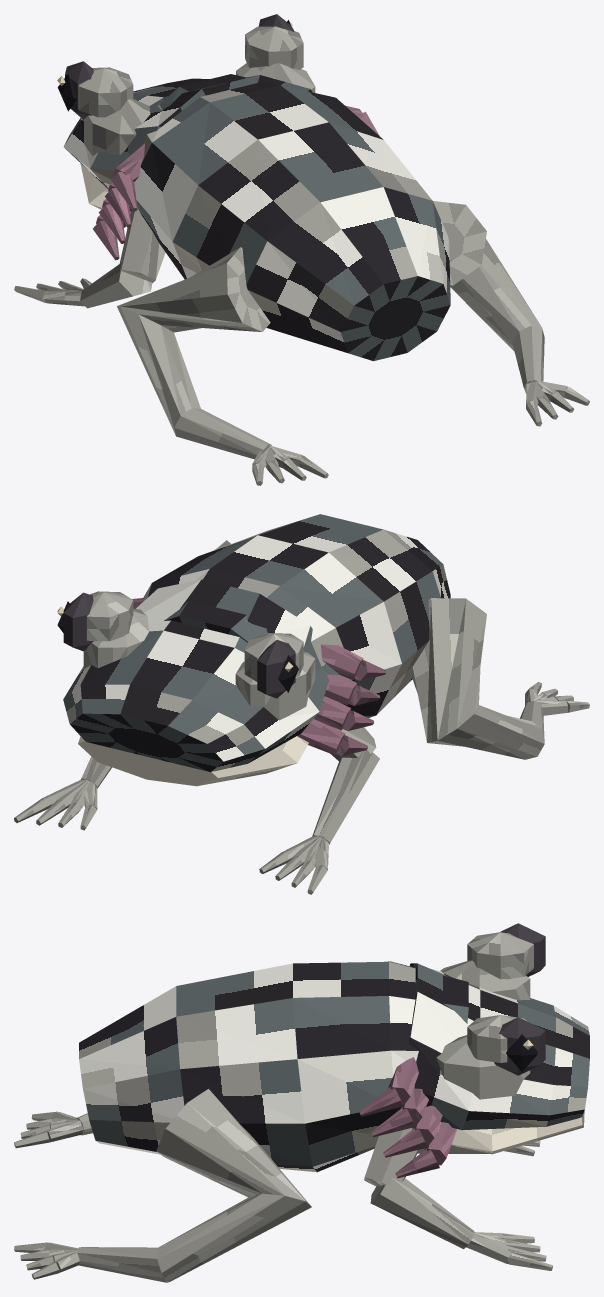
Rendered from mon_pattern_frog.glb.
The picture shows the model from 3 angles, top to bottom: view 1: azimuth 30°, elevation 25°; view 2: azimuth 150°, elevation 25°; view 3: azimuth 270°, elevation 25°; orthographic projection.
Parts seen in each view (by area): view 1: closed_body; view 2: closed_body; view 3: closed_body.
Part boxes in pixels (bbox=[...]): closed_body: bbox=[14, 14, 589, 485]; closed_body: bbox=[14, 514, 589, 894]; closed_body: bbox=[14, 923, 589, 1282].
Size of the model in its own units: 0.1501 by 0.0894 by 0.2029.
Materials: 1 (1 with a texture image).
